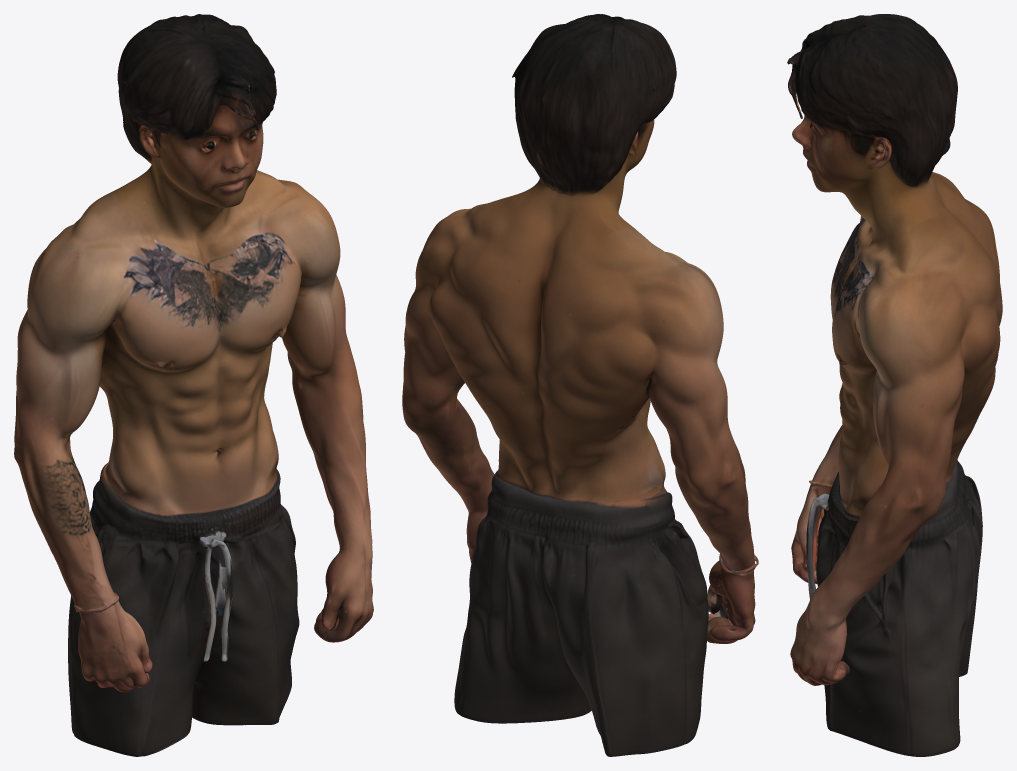
File: hero.glb
The picture shows the model from 3 angles, left to right: view 1: azimuth 30°, elevation 25°; view 2: azimuth 150°, elevation 25°; view 3: azimuth 270°, elevation 25°; orthographic projection. The views are drawn at different scales.
Parts seen in each view (by area): view 1: textured; view 2: textured; view 3: textured.
Boxes of the visible parts, left/top/right/bottom form: textured: left=14, top=14, right=373, bottom=756; textured: left=402, top=14, right=758, bottom=756; textured: left=787, top=14, right=1002, bottom=756.
Bounding box in the file's own units: 0.9721 × 1.94 × 0.5555.
Materials: 1 (1 with a texture image).
